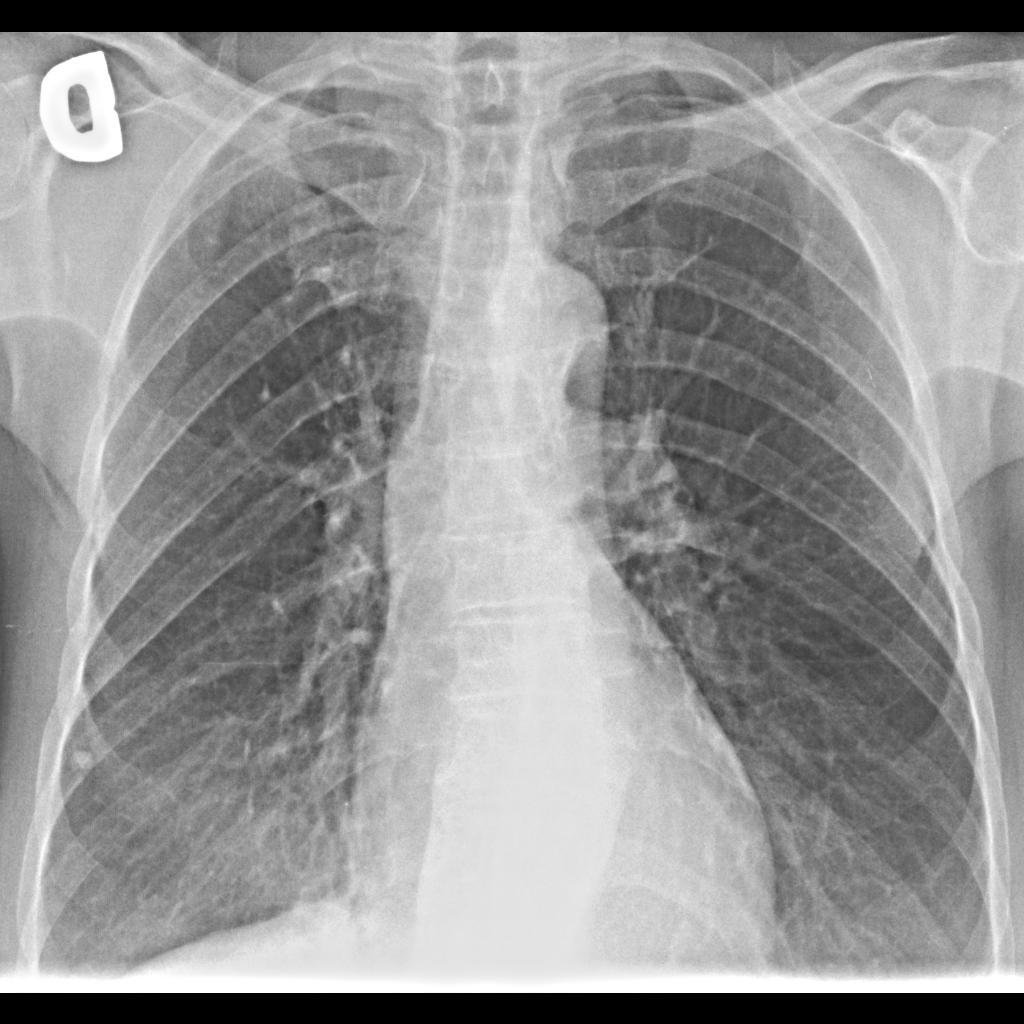Nodule: (61, 738, 102, 787)
